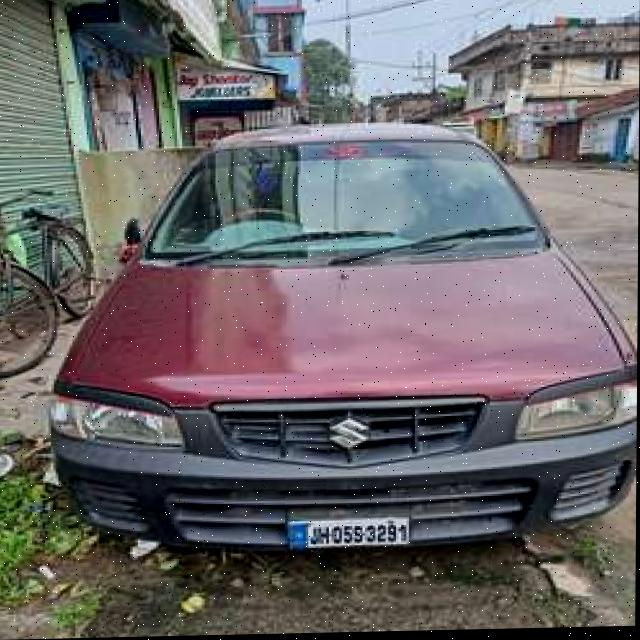plate: (287, 516, 412, 551)
